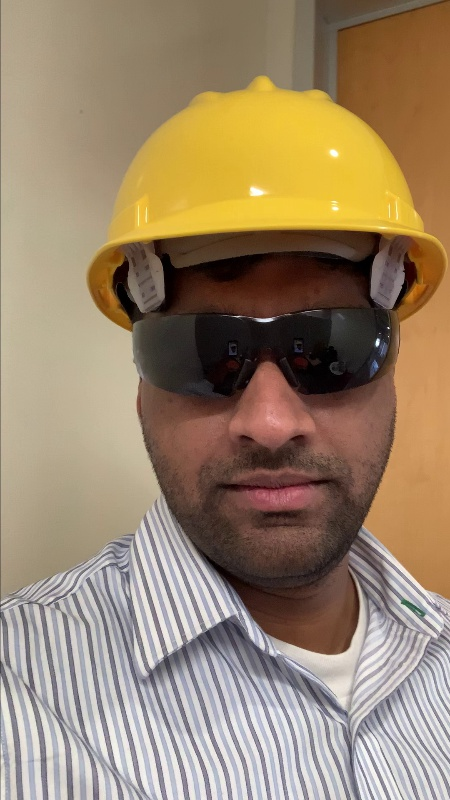glasses: (126, 305, 408, 400)
helmet: (72, 71, 448, 306)
